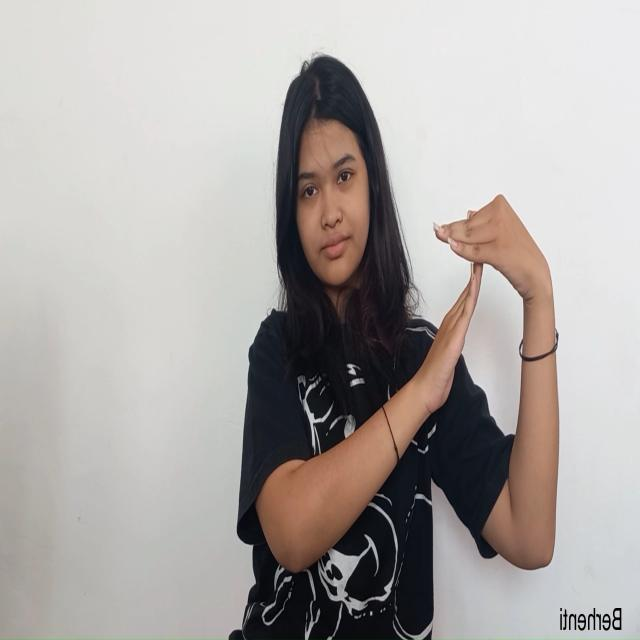Berhenti -BISINDO-: (413, 190, 562, 434)
